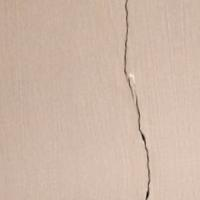crack: (112, 0, 161, 199)
